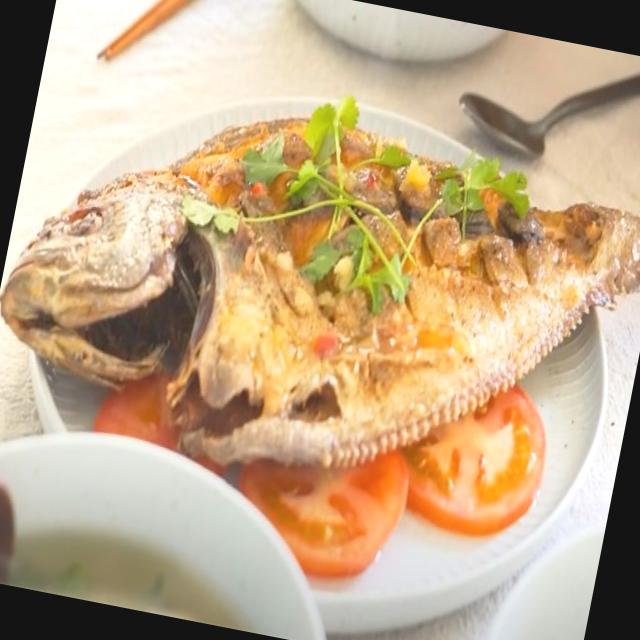ca chien: (0, 100, 640, 465)
